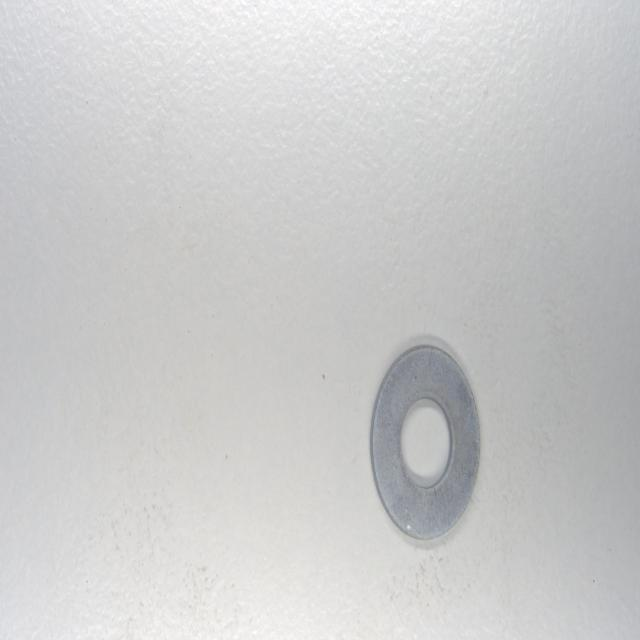washer: (370, 344, 482, 545)
